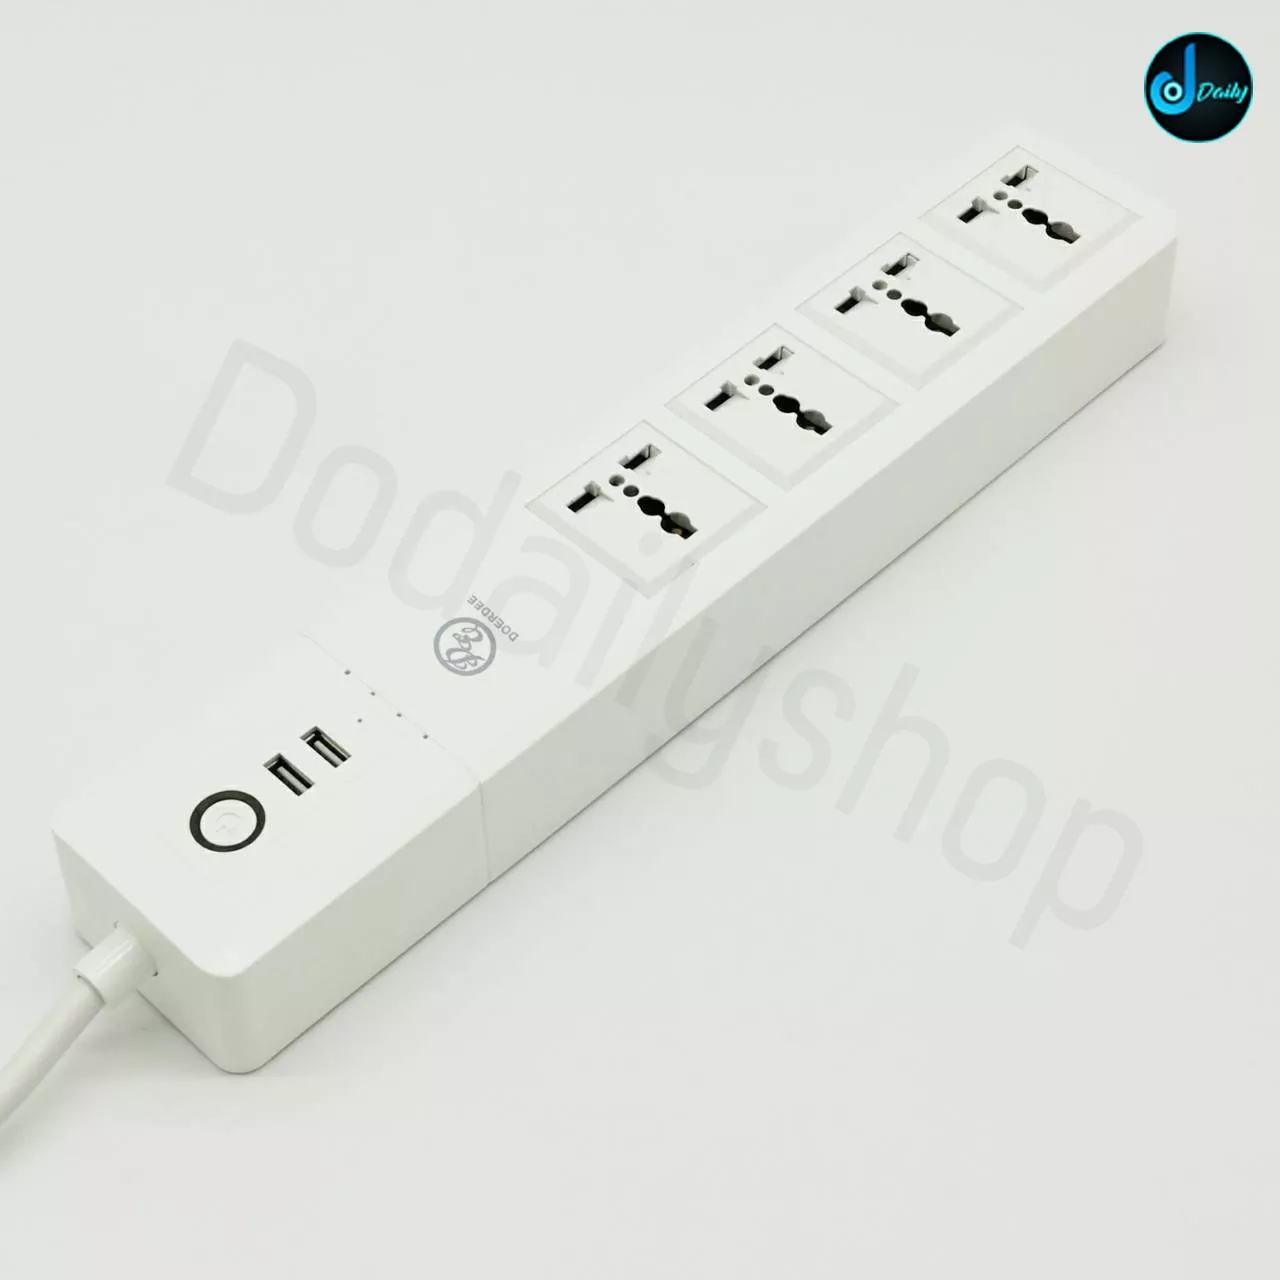Three_eye_plug: (39, 111, 1200, 1081)
